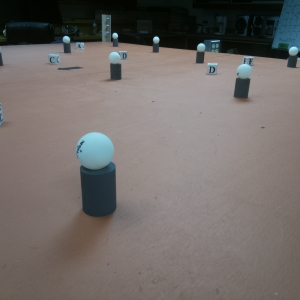blockA: (77, 41, 85, 49)
blockC: (48, 54, 61, 65)
blockD: (208, 63, 218, 74), (117, 49, 129, 58)
blockF: (242, 55, 255, 66)
corner: (100, 13, 113, 40)
obstacle: (75, 131, 118, 216), (235, 65, 252, 97), (108, 52, 122, 78), (286, 46, 299, 68), (196, 42, 205, 63), (152, 35, 160, 54), (63, 34, 70, 54)
